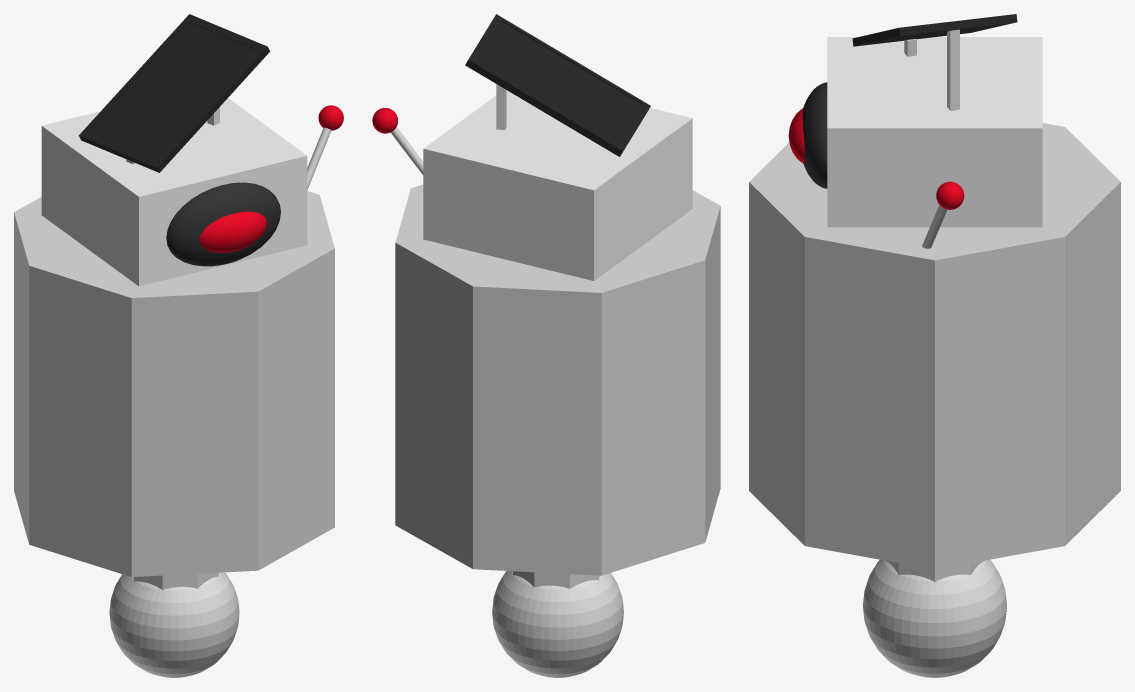
Rendered from robot.fbx.
3 views of the same model, side by side, from view 1: azimuth 30°, elevation 25°; view 2: azimuth 150°, elevation 25°; view 3: azimuth 270°, elevation 25° (orthographic). The views are drawn at different scales.
Visible parts, largest first — view 1: Cube, Cube.001, Cube.002, Sphere, Sphere.001, Sphere.002, Cylinder; view 2: Cube, Cube.001, Cube.002, Sphere.002; view 3: Cube, Cube.001, Sphere, Cube.002, Cube.003, Sphere.002, Sphere.001.
Boxes of the visible parts, left/top/right/bottom form: Cube: left=14, top=191, right=334, bottom=677; Cube.001: left=41, top=98, right=307, bottom=286; Cube.002: left=79, top=14, right=269, bottom=172; Sphere: left=166, top=182, right=280, bottom=266; Sphere.001: left=199, top=211, right=266, bottom=252; Sphere.002: left=318, top=105, right=343, bottom=130; Cylinder: left=307, top=127, right=331, bottom=189; Cube: left=395, top=184, right=720, bottom=677; Cube.001: left=423, top=90, right=692, bottom=280; Cube.002: left=465, top=14, right=650, bottom=156; Sphere.002: left=372, top=108, right=397, bottom=133; Cube: left=749, top=123, right=1120, bottom=677; Cube.001: left=827, top=37, right=1042, bottom=227; Sphere: left=802, top=82, right=827, bottom=188; Cube.002: left=852, top=14, right=1017, bottom=46; Cube.003: left=947, top=29, right=959, bottom=110; Sphere.002: left=936, top=181, right=964, bottom=209; Sphere.001: left=788, top=108, right=804, bottom=163.
Size of the model in its own units: 220 by 407 by 200.
